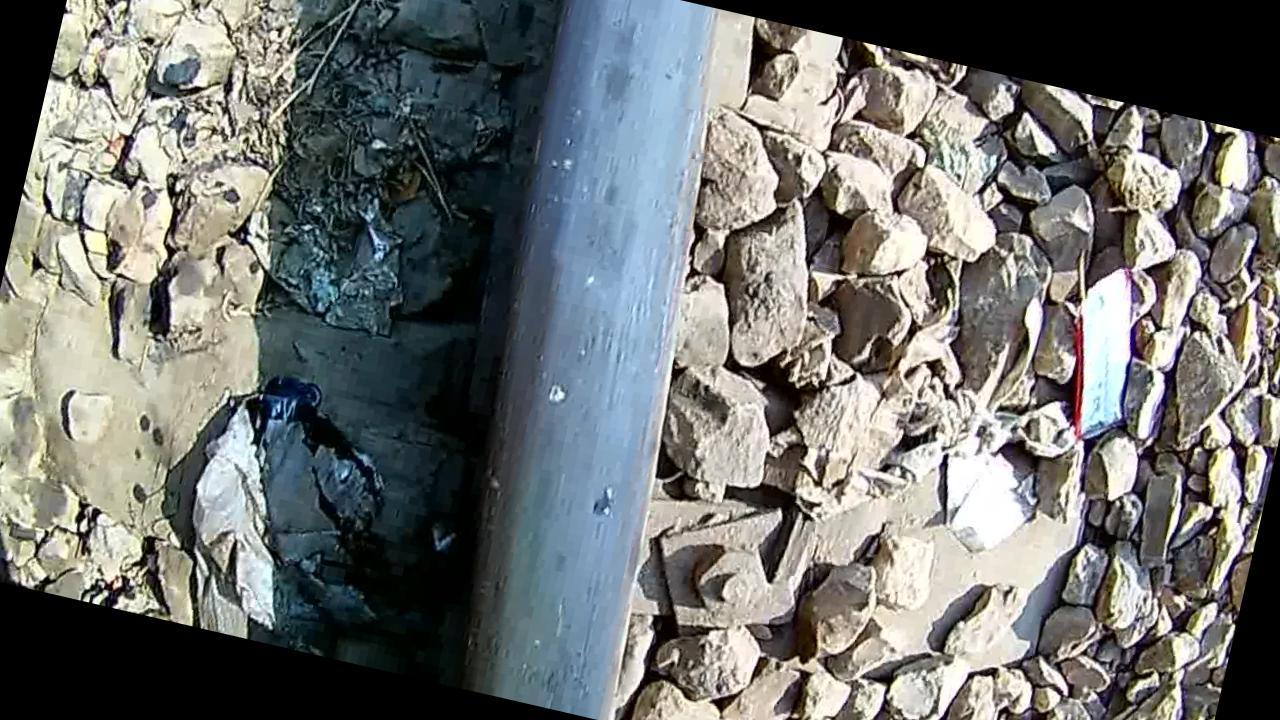bolt_missing: (497, 0, 705, 422)
